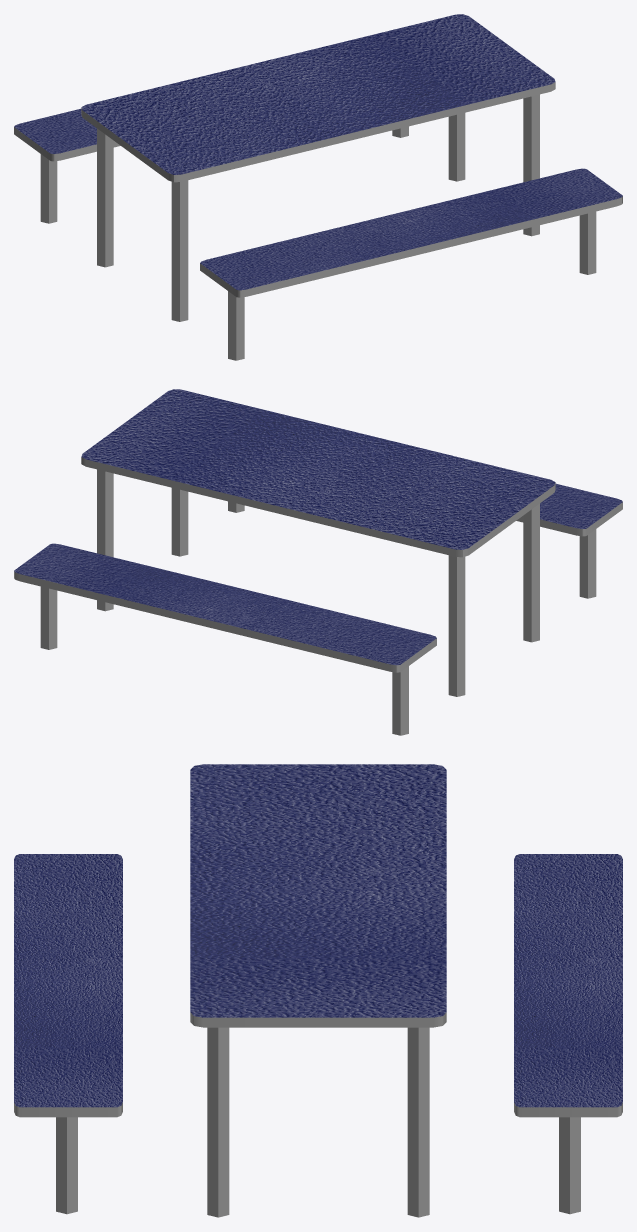
File: LunchTable.fbx
3 renders of one model, top to bottom at view 1: azimuth 30°, elevation 25°; view 2: azimuth 150°, elevation 25°; view 3: azimuth 270°, elevation 25°, orthographic. The views are drawn at different scales.
Parts seen in each view (by area): view 1: pCube10; view 2: pCube10; view 3: pCube10.
Part boxes in pixels (x1,y1,x2,y2): pCube10: [14, 14, 622, 360]; pCube10: [14, 389, 622, 735]; pCube10: [14, 764, 622, 1217].
Size of the model in its own units: 8.63 by 3.27 by 8.77.
